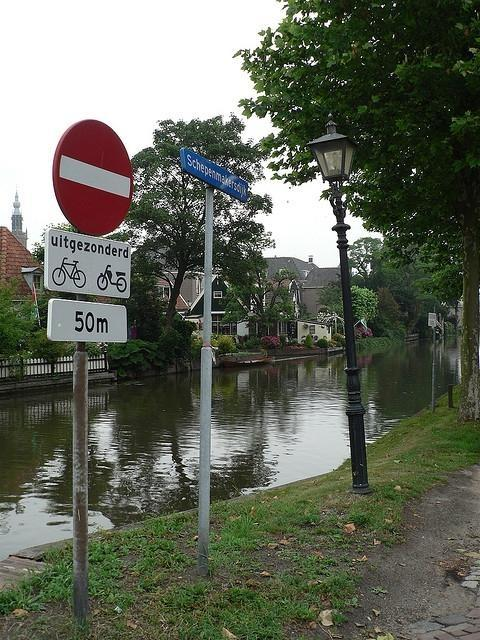bicycle: (52, 257, 87, 289)
